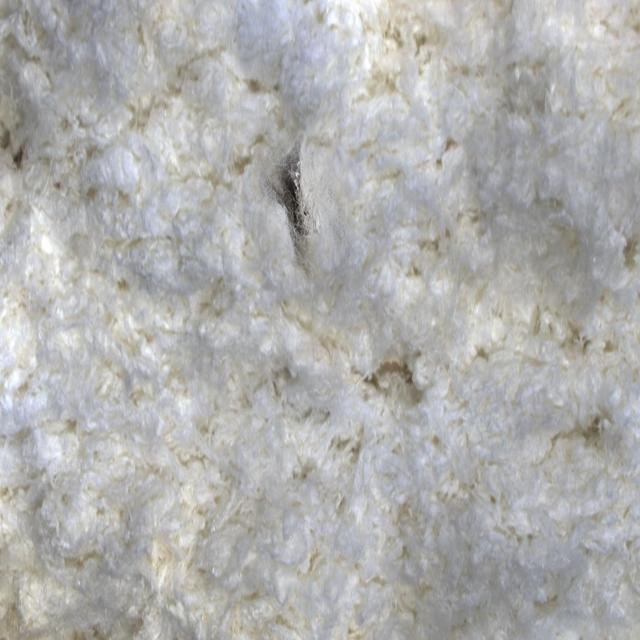dust: (230, 119, 353, 284)
